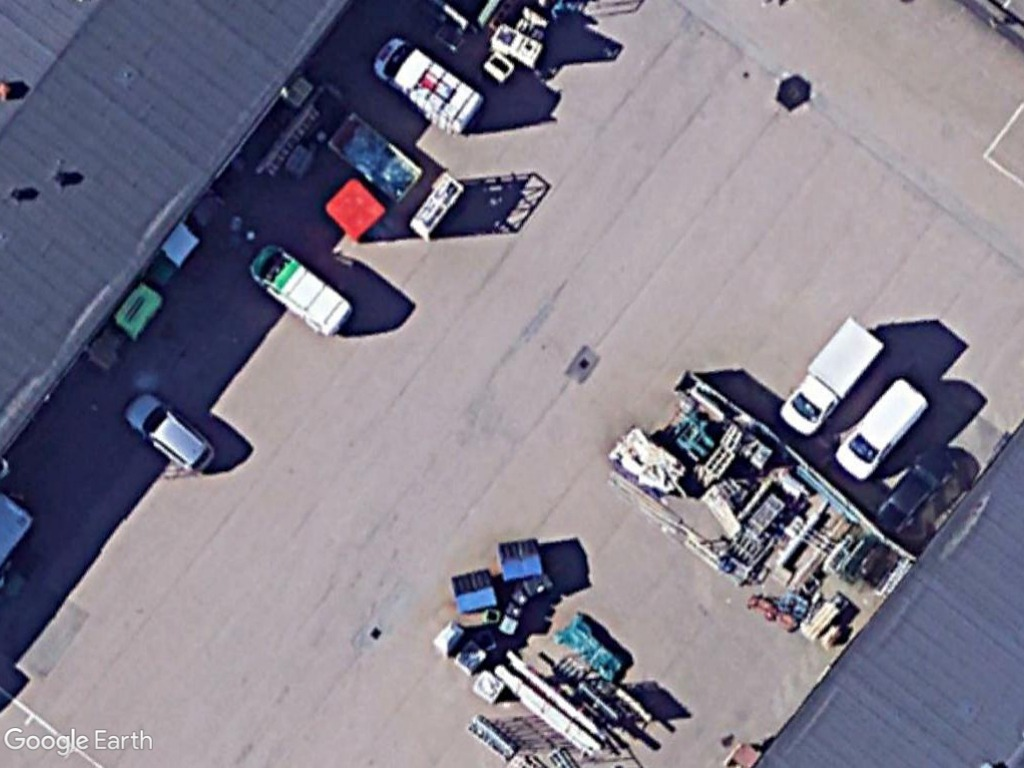car: (120, 391, 221, 477)
van: (778, 318, 891, 438), (370, 34, 490, 138), (246, 242, 361, 343), (834, 375, 933, 483)
